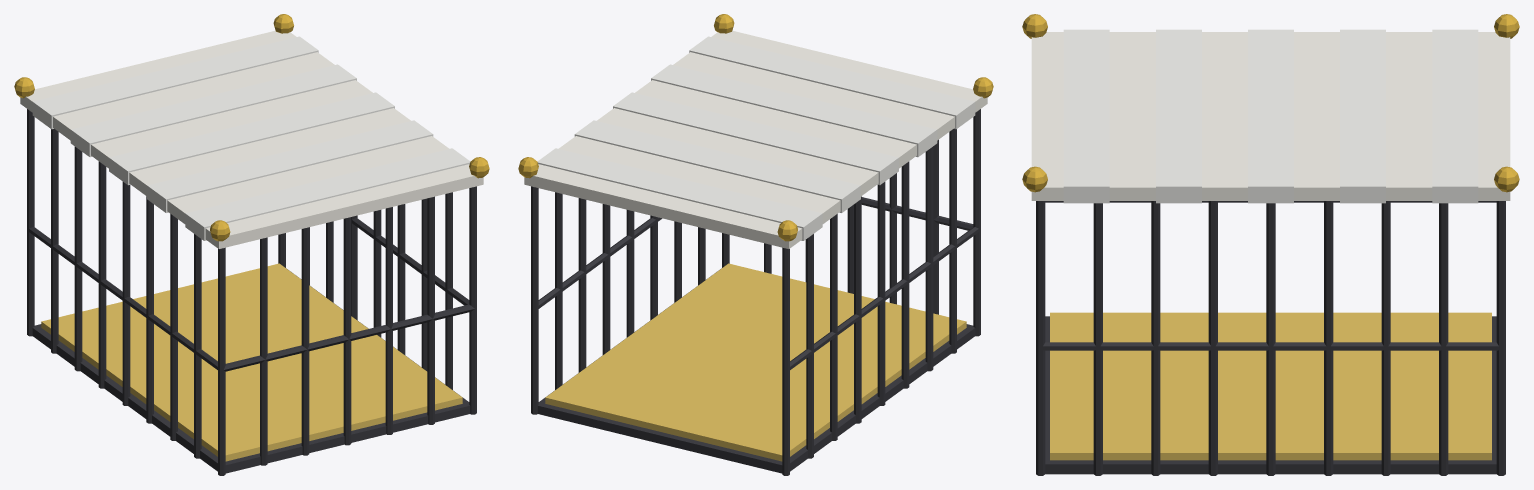
The model's file is circus_cage.glb.
3 renders of one model, left to right at view 1: azimuth 30°, elevation 25°; view 2: azimuth 150°, elevation 25°; view 3: azimuth 270°, elevation 25°, orthographic. The views are drawn at different scales.
Parts seen in each view (by area): view 1: bars_cage_iron, straw_cage_straw, roof_circus_white, paint_circus_paint, floor_cage_iron, bars_cage_gold; view 2: straw_cage_straw, bars_cage_iron, roof_circus_white, paint_circus_paint, floor_cage_iron, bars_cage_gold; view 3: straw_cage_straw, roof_circus_white, paint_circus_paint, bars_cage_iron, floor_cage_iron, bars_cage_gold.
Boxes of the visible parts, x1=… form: bars_cage_iron: x1=27, y1=109, x2=476, y2=475; straw_cage_straw: x1=41, y1=263, x2=462, y2=461; roof_circus_white: x1=20, y1=30, x2=483, y2=248; paint_circus_paint: x1=32, y1=36, x2=470, y2=240; floor_cage_iron: x1=32, y1=267, x2=470, y2=473; bars_cage_gold: x1=14, y1=14, x2=489, y2=241; straw_cage_straw: x1=545, y1=263, x2=966, y2=461; bars_cage_iron: x1=531, y1=109, x2=980, y2=475; roof_circus_white: x1=524, y1=30, x2=987, y2=248; paint_circus_paint: x1=537, y1=36, x2=975, y2=240; floor_cage_iron: x1=537, y1=267, x2=975, y2=473; bars_cage_gold: x1=518, y1=14, x2=993, y2=241; straw_cage_straw: x1=1050, y1=312, x2=1491, y2=460; roof_circus_white: x1=1031, y1=32, x2=1510, y2=200; paint_circus_paint: x1=1063, y1=29, x2=1478, y2=203; bars_cage_iron: x1=1036, y1=201, x2=1505, y2=475; floor_cage_iron: x1=1045, y1=316, x2=1496, y2=474; bars_cage_gold: x1=1022, y1=14, x2=1519, y2=192.
Bounding box in the file's own units: 2.1 × 1.85 × 2.7.
